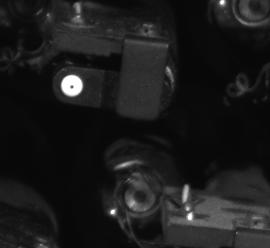fiber: (58, 72, 87, 100)
